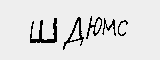Д: (60, 12, 86, 52)
М: (101, 13, 117, 40)
С: (117, 18, 130, 38)
Ш: (24, 13, 60, 48)
Ю: (84, 9, 103, 43)
